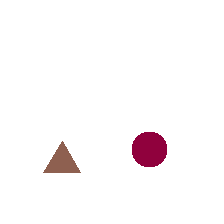circle: (132, 132, 166, 166)
triangle: (43, 141, 80, 172)
